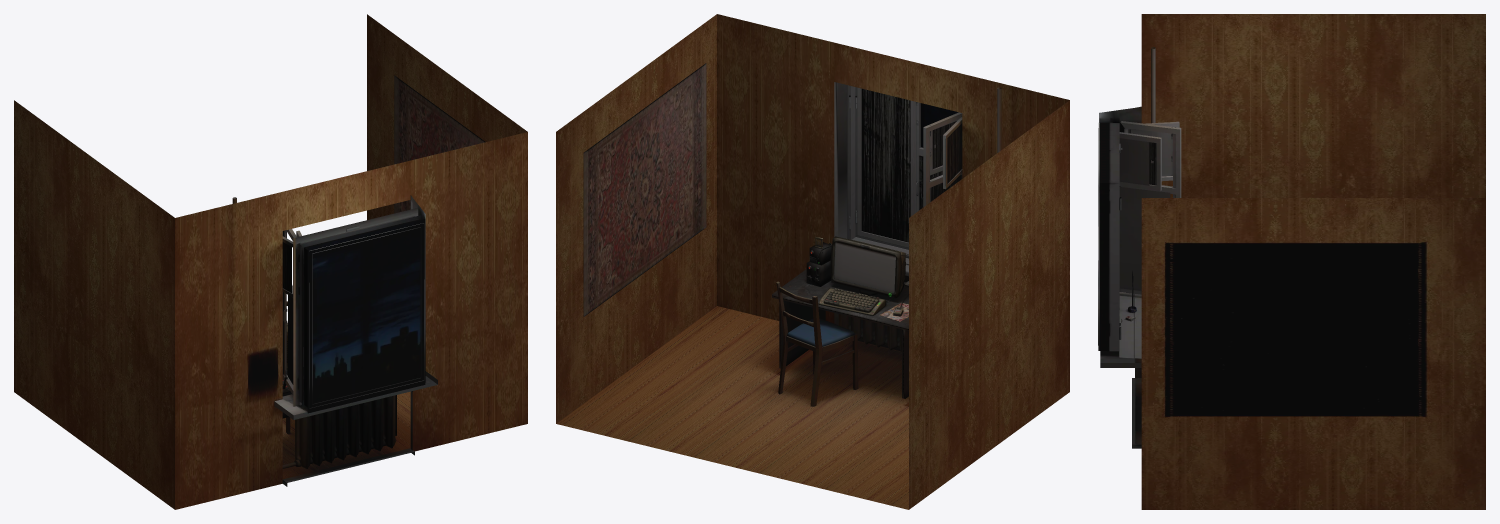
Rendered from pc-omptimized.glb.
The picture shows the model from 3 angles, left to right: view 1: azimuth 30°, elevation 25°; view 2: azimuth 150°, elevation 25°; view 3: azimuth 270°, elevation 25°; orthographic projection. The views are drawn at different scales.
Parts seen in each view (by area): view 1: side_walls.001, others_joined; view 2: side_walls.001, others_joined, defaultMaterial.016; view 3: side_walls.001, others_joined.
Boxes of the visible parts, x1,y1,x2,y2 form: side_walls.001: [14, 14, 527, 509]; others_joined: [232, 75, 485, 486]; side_walls.001: [556, 14, 1069, 509]; others_joined: [583, 63, 1001, 406]; defaultMaterial.016: [772, 236, 908, 398]; side_walls.001: [1141, 14, 1485, 509]; others_joined: [1098, 47, 1181, 448].
Bounding box in the file's own units: 2.53 × 2 × 2.25.
3 materials, 3 textured.
